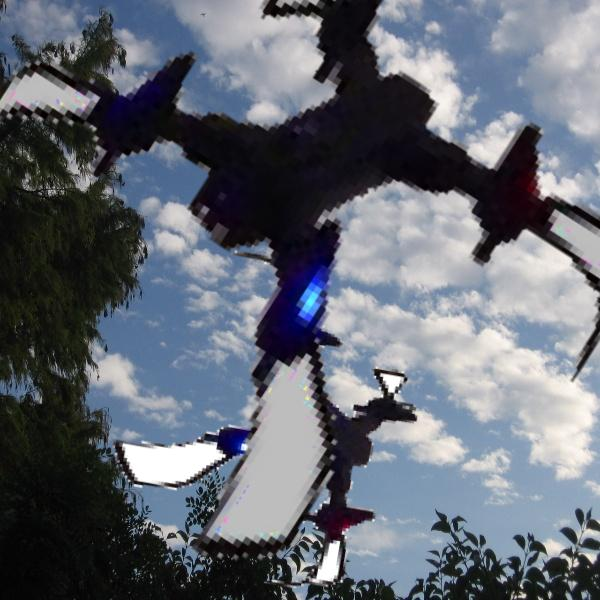drone: (86, 243, 432, 589)
